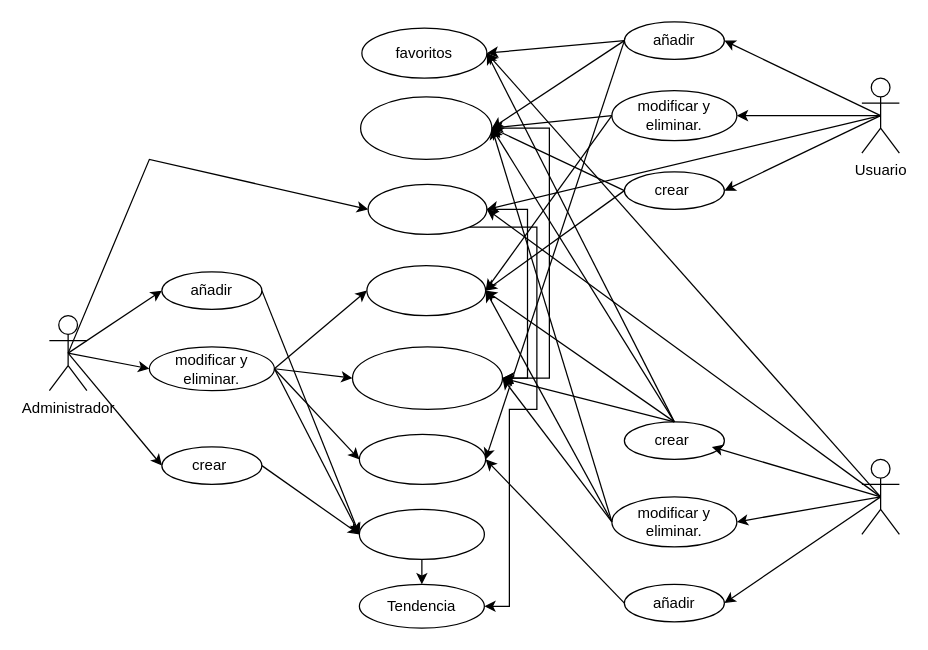
The diagram is 928 pixels wide and 650 high, and some of its shapes have lost their labels. Here are the shapes that lost their labels. From the top down, the centre of each, then its label:
At (425,127): "lista de reproduccion".
At (427,208): "Espacio de busqueda".
At (426,290): "Perfil".
At (426,377): "cancion, album y genero.".
At (422,458): "imagen".
At (880,496): "Artista".
At (421,533): "Publicidad".
